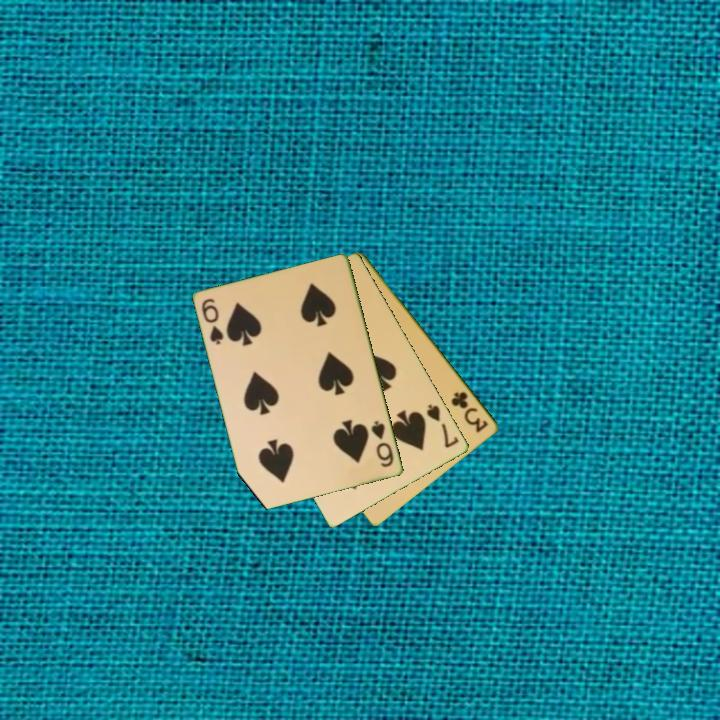3c: (448, 388, 491, 435)
6s: (368, 417, 397, 470), (198, 295, 227, 348)
7s: (423, 401, 462, 451)
